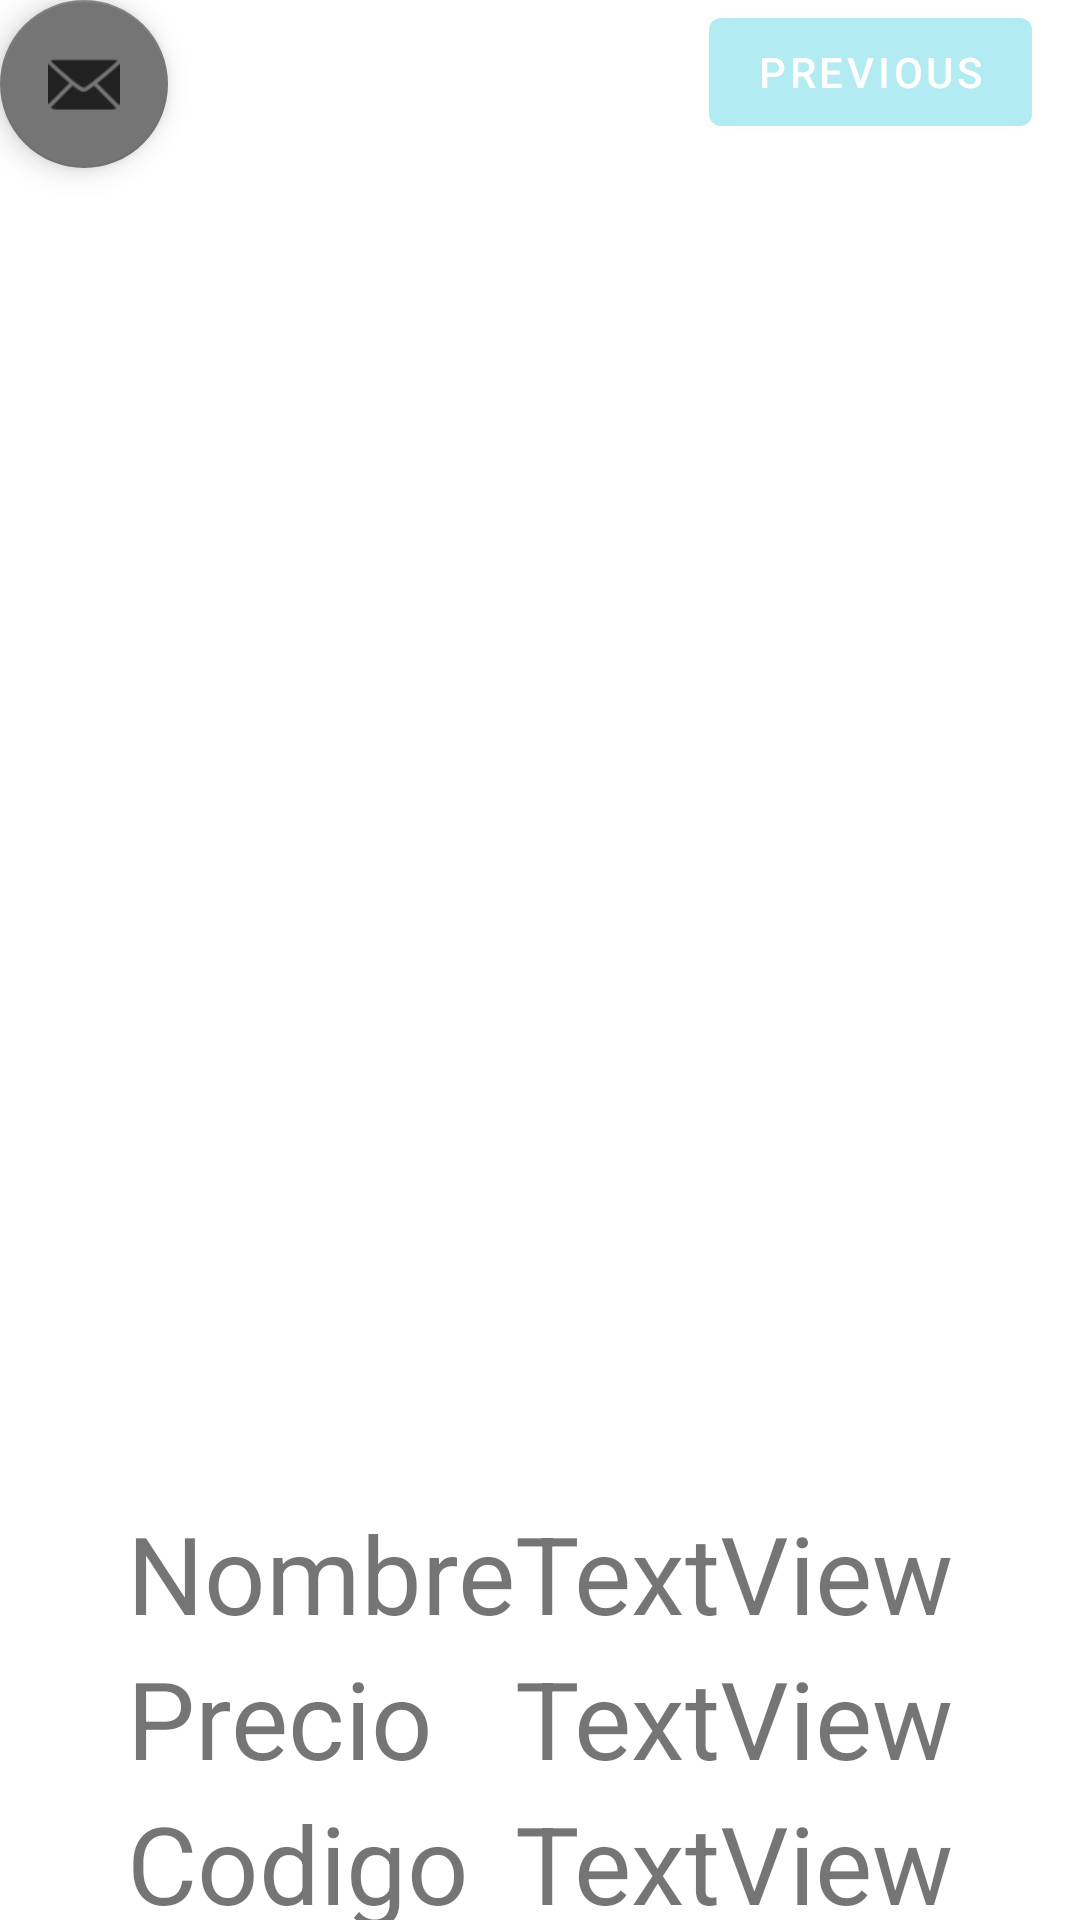

Where to tap for icons on this 1080x1920 app screen, as (x=x, y=y):
email: (x=84, y=84)
